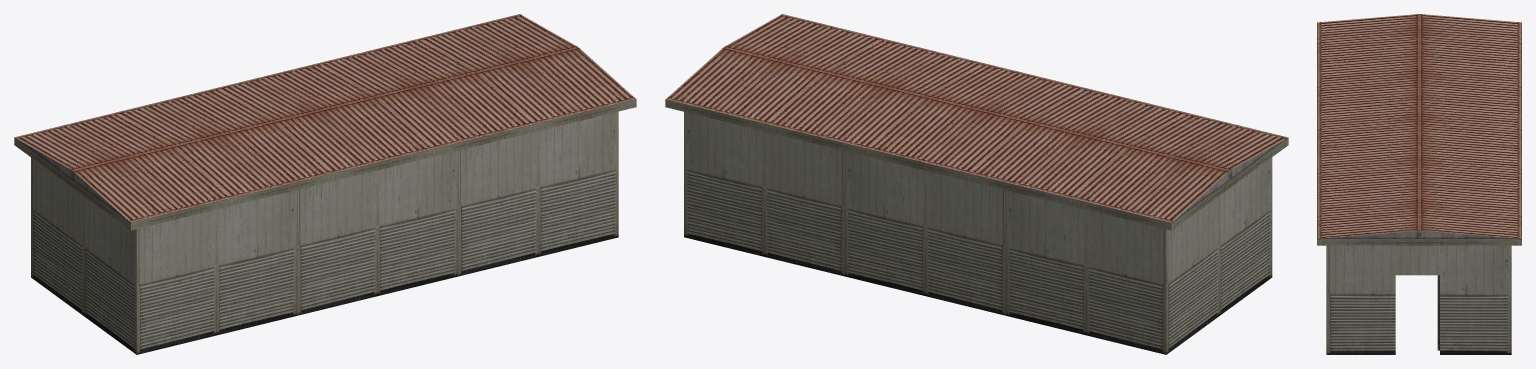
Rendered from OBLD01.glb.
3 views of the same model, side by side, from view 1: azimuth 30°, elevation 25°; view 2: azimuth 150°, elevation 25°; view 3: azimuth 270°, elevation 25° (orthographic). The views are drawn at different scales.
Parts seen in each view (by area): view 1: _OBLD01; view 2: _OBLD01; view 3: _OBLD01.
Part boxes in pixels (x1,y1,x2,y2): _OBLD01: [14, 14, 636, 354]; _OBLD01: [665, 14, 1288, 354]; _OBLD01: [1317, 14, 1521, 354].
Size of the model in its own units: 13.82 by 3.87 by 5.52.
Materials: 5 (5 with a texture image).
